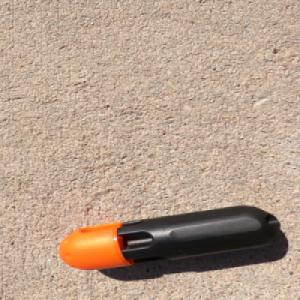PlasticPart: (58, 204, 281, 271)
